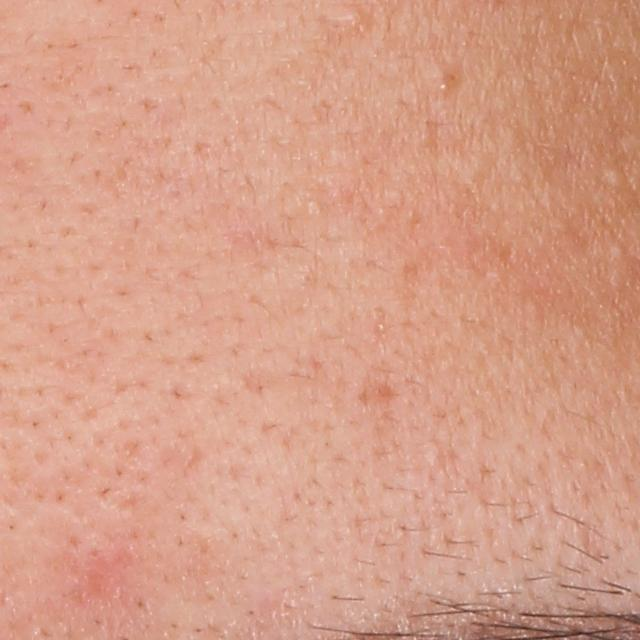comedo: (603, 168, 629, 190), (605, 241, 627, 262)
